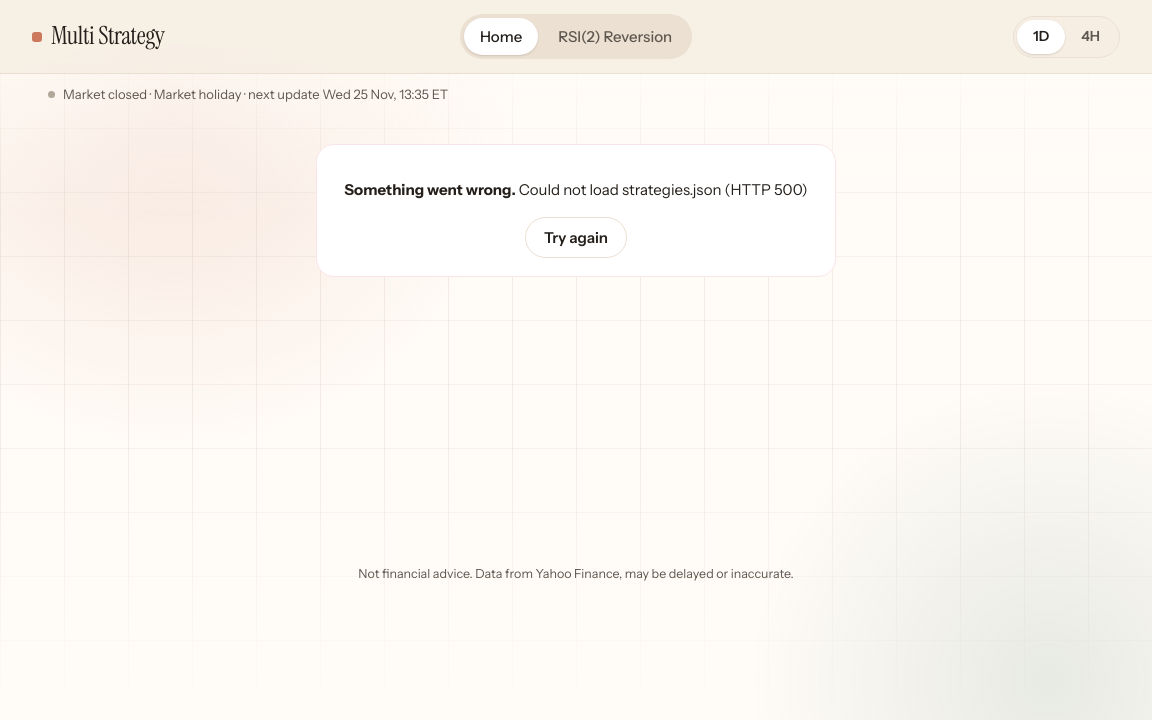
Test: home › shows an error with a working retry when strategies fail to load
Expected: the message "Something went wrong. Could not load strategies.json (HTTP 500) Try again" is shown, top-left (316, 144), bottom-right (836, 277)
What coordinates should you click on to do the following:
click the button "Try again"
I would click on:
 (576, 237)
Its box is top-left (525, 217), bottom-right (627, 258).
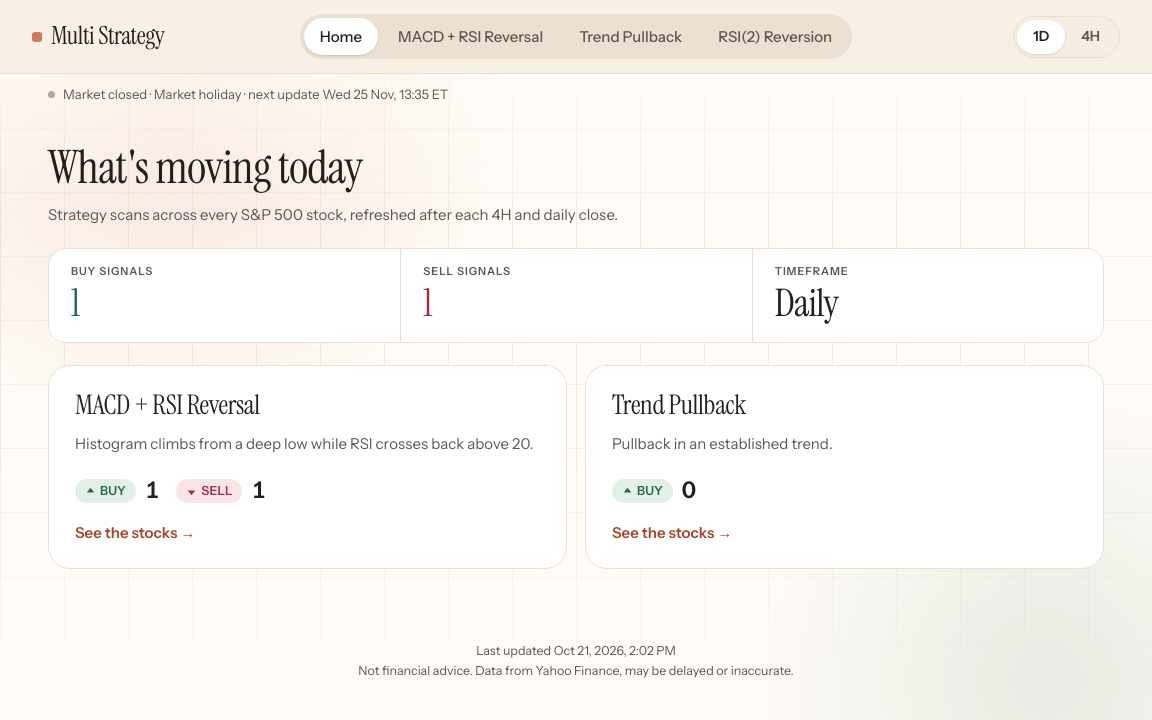
Now the heading "What's moving today" is shown, box top-left (48, 137), bottom-right (362, 197)
